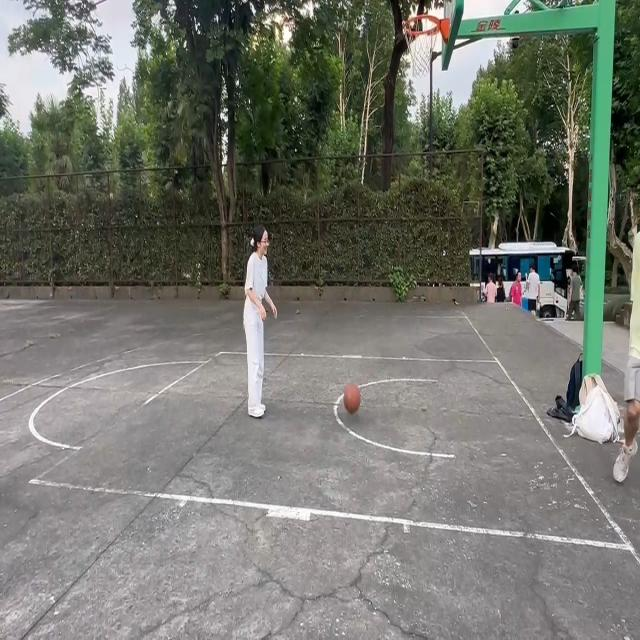basketball: (402, 12, 454, 120)
rim: (344, 383, 362, 413)
